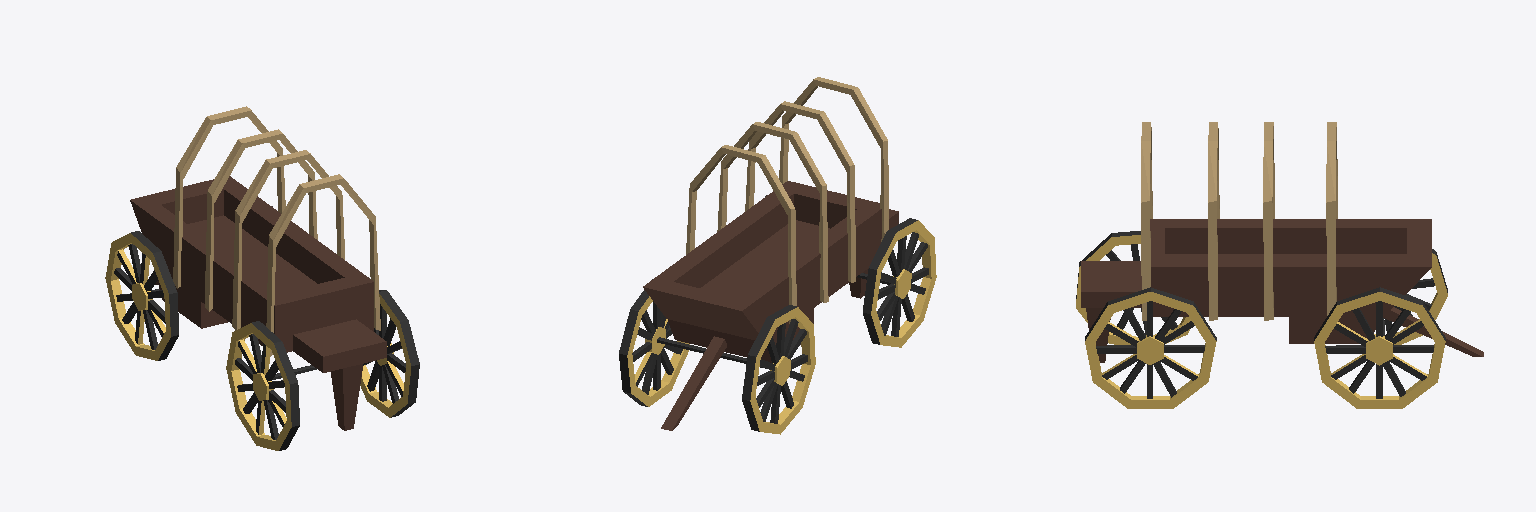
File: wagon.obj
3 renders of one model, left to right at view 1: azimuth 30°, elevation 25°; view 2: azimuth 150°, elevation 25°; view 3: azimuth 270°, elevation 25°, orthographic.
Parts seen in each view (by area): view 1: pCube8, pPipe9, pPipe4, pPipe11, pPipe8, pPipe7, pPipe6, pPipe5, pCube1; view 2: pCube8, pPipe4, pPipe9, pPipe10, pCube1, pPipe6, pPipe5, pPipe7, pPipe8; view 3: pCube8, pPipe10, pPipe11, pCube1, pPipe6, pPipe7, pPipe5, pPipe8, pPipe4, pPipe9.
Boxes of the visible parts, box(x1,y1,x2,y2) form: pCube8: box(130, 176, 386, 430); pPipe9: box(105, 231, 178, 360); pPipe4: box(226, 321, 299, 450); pPipe11: box(360, 290, 419, 417); pPipe8: box(266, 174, 380, 356); pPipe7: box(232, 150, 344, 330); pPipe6: box(205, 129, 317, 311); pPipe5: box(173, 106, 285, 288); pCube1: box(155, 280, 227, 328); pCube8: box(643, 181, 898, 339); pPipe4: box(863, 218, 936, 347); pPipe9: box(742, 305, 815, 434); pPipe10: box(619, 279, 689, 406); pCube1: box(661, 308, 813, 430); pPipe6: box(717, 122, 828, 302); pPipe5: box(686, 145, 796, 323); pPipe7: box(745, 101, 855, 282); pPipe8: box(779, 77, 888, 241); pCube8: box(1081, 219, 1431, 362); pPipe10: box(1314, 287, 1445, 408); pPipe11: box(1085, 287, 1216, 408); pCube1: box(1289, 307, 1483, 356); pPipe6: box(1263, 122, 1274, 320); pPipe7: box(1208, 122, 1219, 320); pPipe5: box(1326, 122, 1337, 315); pPipe8: box(1141, 122, 1152, 320); pPipe4: box(1076, 231, 1190, 344); pPipe9: box(1374, 249, 1447, 344).
Size of the model in its own units: 8.18 by 14.66 by 21.79.